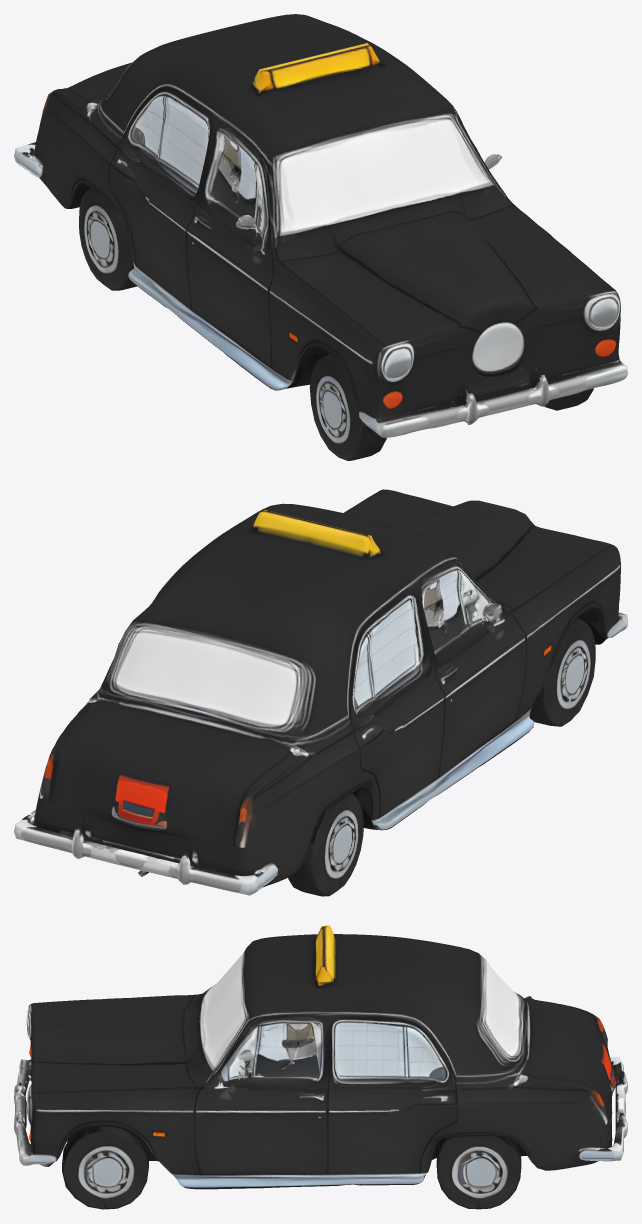
The model's file is base_basic_shaded.glb.
3 renders of one model, top to bottom at view 1: azimuth 30°, elevation 25°; view 2: azimuth 150°, elevation 25°; view 3: azimuth 270°, elevation 25°, orthographic. The views are drawn at different scales.
Parts seen in each view (by area): view 1: model; view 2: model; view 3: model.
Boxes of the visible parts, box(x1,y1,x2,y2) form: model: box(14, 14, 627, 460); model: box(14, 489, 627, 896); model: box(14, 925, 627, 1209).
Size of the model in its own units: 0.7658 by 0.7439 by 1.9.
Materials: 1 (1 with a texture image).
